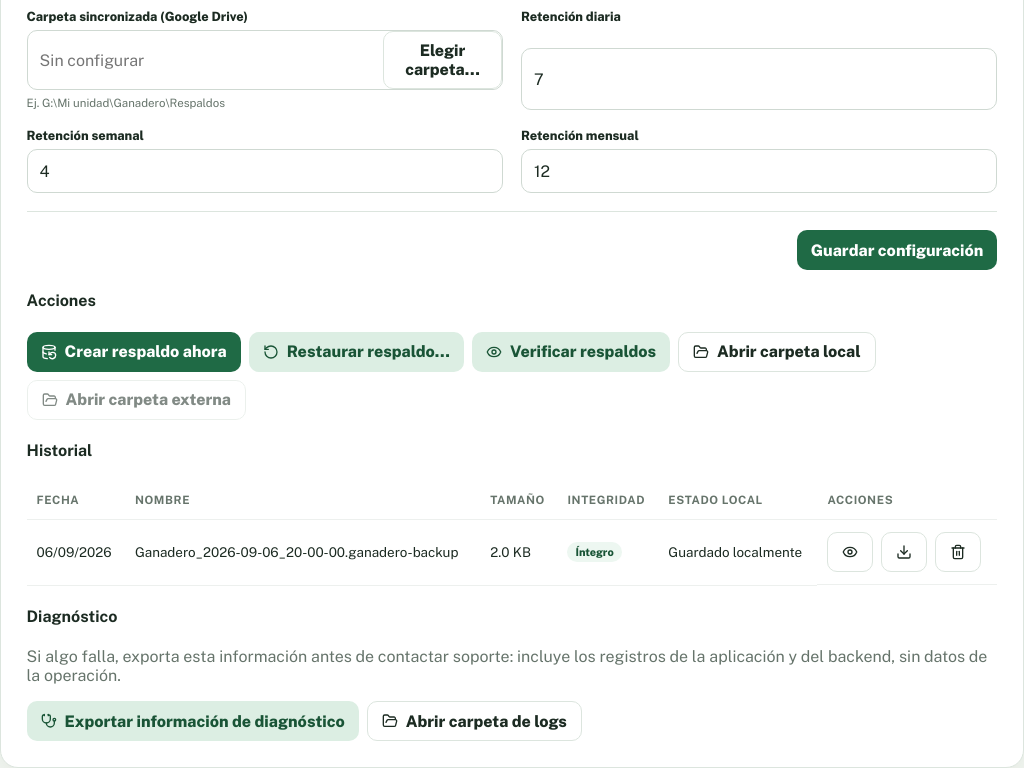
BackupsPanel › exporta la información de diagnóstico y muestra dónde se guardó
This screenshot has width=1024, height=768.
(page scrolled)
Check: the text "Ganadero_2026-09-06_20-00-00.ganadero-backup" is shown, box x1=125 y1=520 x2=480 y2=585
Click the button "Exportar información de diagnóstico". click: {"x": 193, "y": 721}
box: x1=27 y1=701 x2=359 y2=741
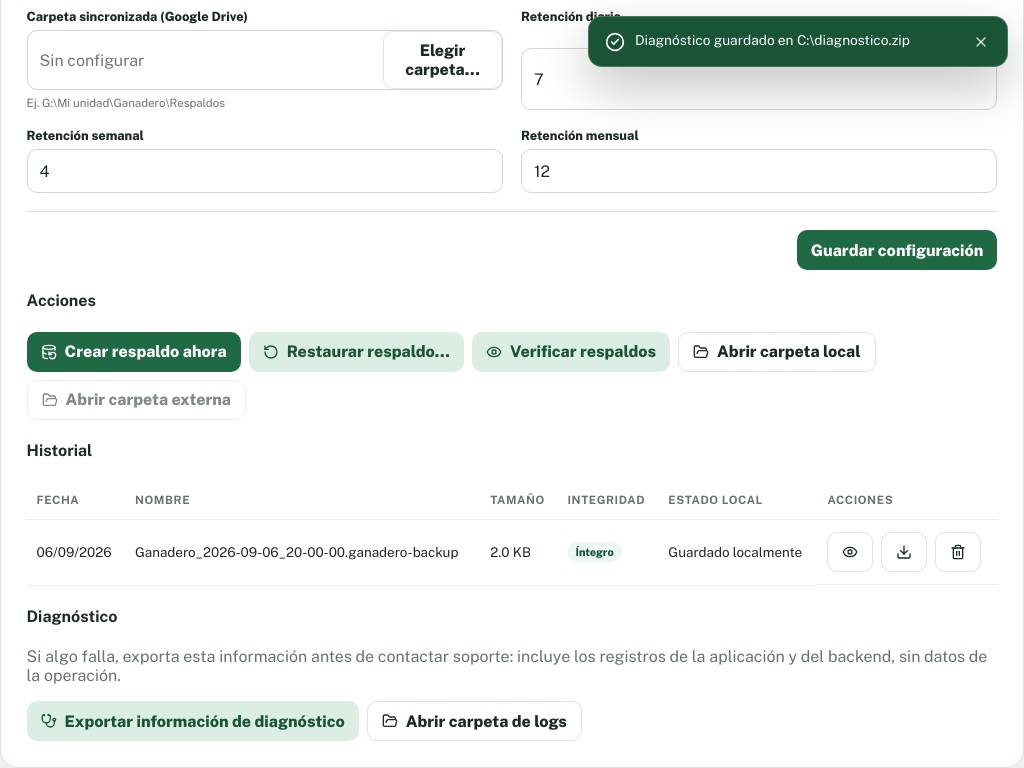
Check: the text "Diagnóstico guardado en C:\\diagnostico.zip" is shown, box x1=635 y1=32 x2=910 y2=48
